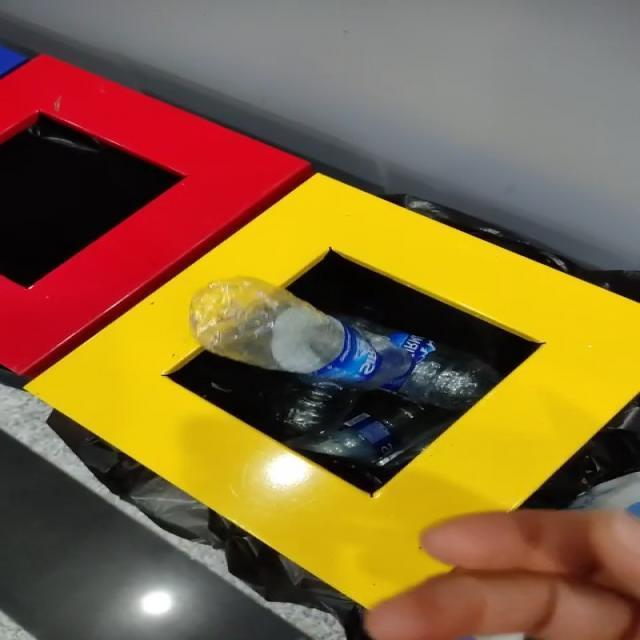Plastic: (189, 277, 501, 464)
